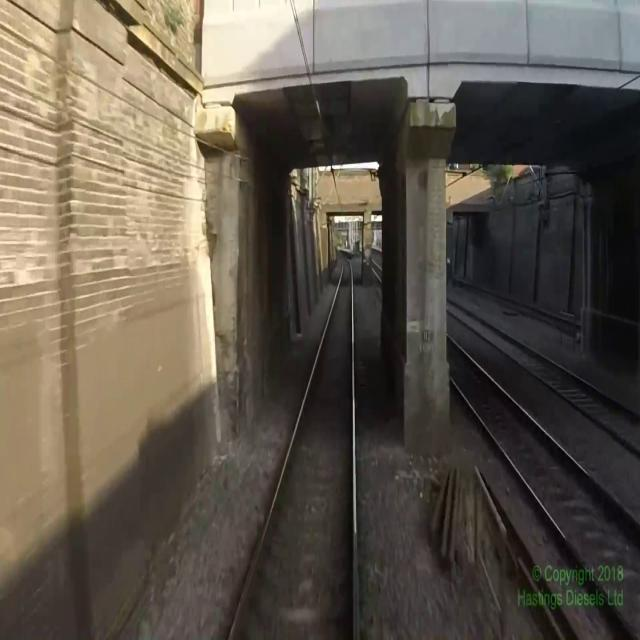rail-track: (446, 336, 640, 638), (232, 255, 352, 639), (446, 300, 640, 448), (372, 261, 382, 280)
